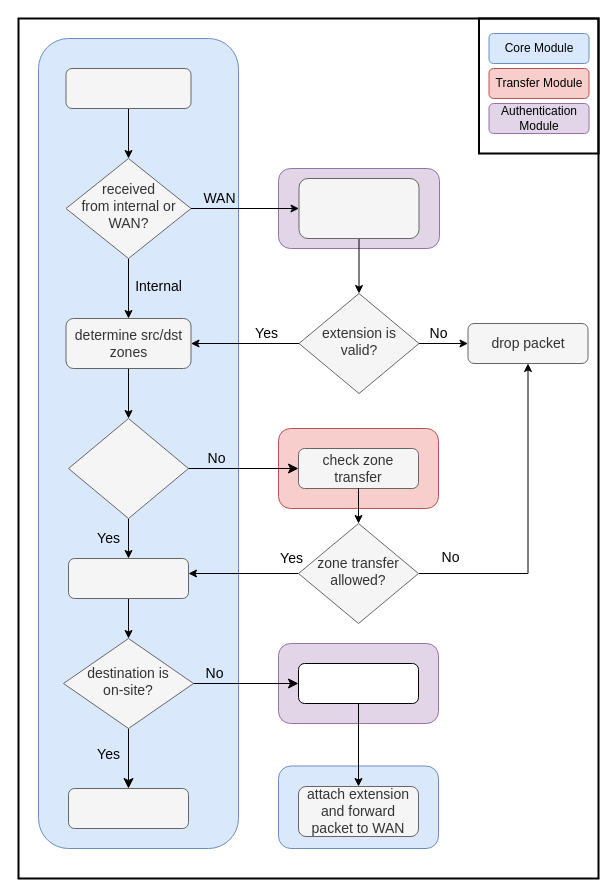
Some shapes in this 616 by 896 pixel diagram are drawn without their labels. Here are the shapes that lost their labels. From the top down, the centre of each, then its label:
At point (128, 88): "receive packet".
At point (358, 208): "verify security extension".
At point (128, 468): "zones match?".
At point (128, 578): "determine destination site".
At point (358, 683): "create security extension".
At point (128, 808): "forward packet to internal network".
